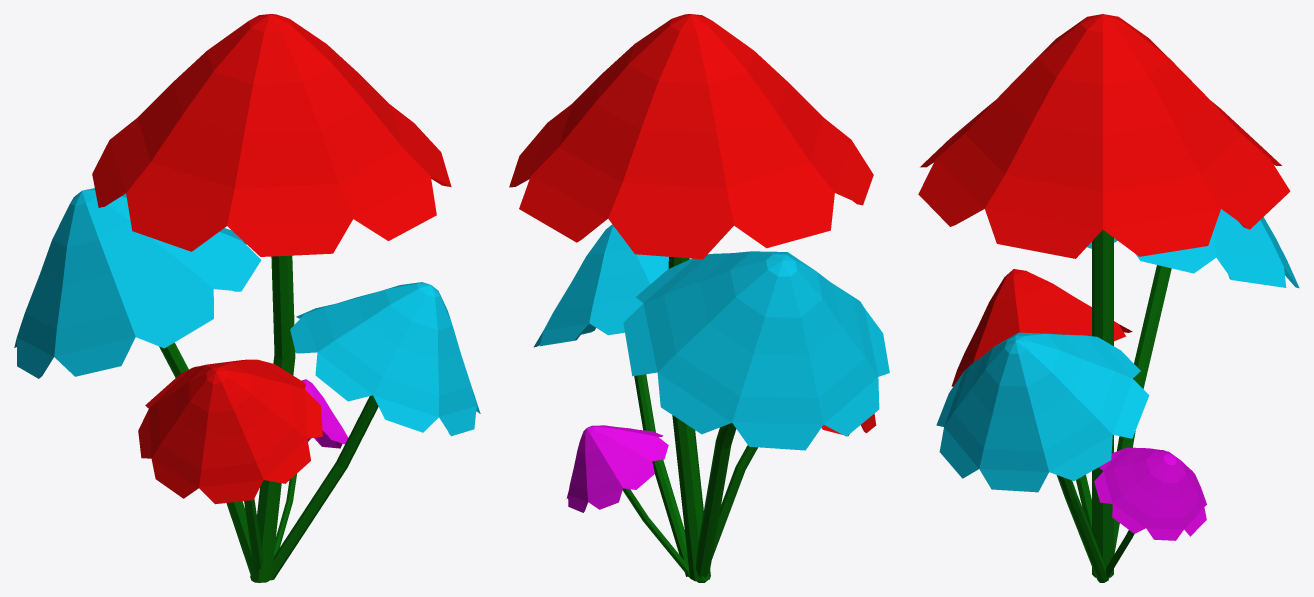
Rendered from GEO_mushroom_family_big.fbx.
3 views of the same model, side by side, from view 1: azimuth 30°, elevation 25°; view 2: azimuth 150°, elevation 25°; view 3: azimuth 270°, elevation 25° (orthographic).
Parts seen in each view (by area): view 1: GEO_mushroom_family_big; view 2: GEO_mushroom_family_big; view 3: GEO_mushroom_family_big.
Part boxes in pixels (x1,y1,x2,y2): GEO_mushroom_family_big: (14,14,480,582); GEO_mushroom_family_big: (509,14,889,582); GEO_mushroom_family_big: (918,14,1299,582).
Bounding box in the file's own units: 175 × 249 × 152.
